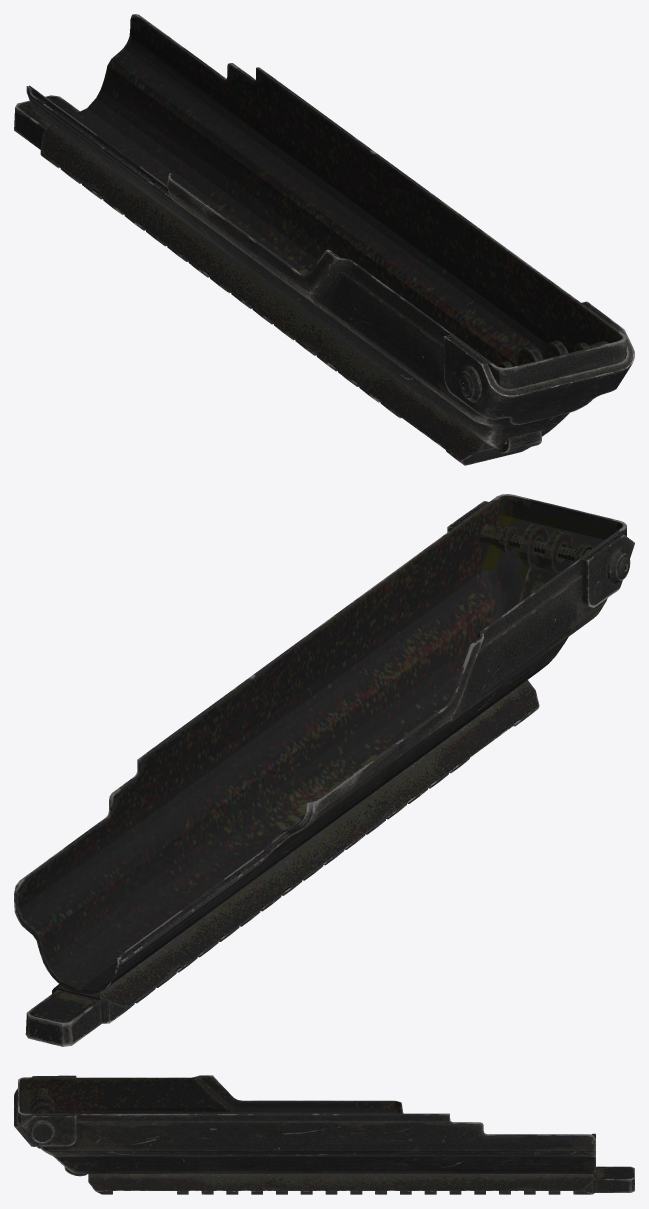
The picture shows the model from 3 angles, top to bottom: view 1: azimuth 30°, elevation 25°; view 2: azimuth 150°, elevation 25°; view 3: azimuth 270°, elevation 25°; orthographic projection. The views are drawn at different scales.
Visible parts, largest first — view 1: TW_5beec91a0db834001961942d_PZ_Import; view 2: TW_5beec91a0db834001961942d_PZ_Import; view 3: TW_5beec91a0db834001961942d_PZ_Import.
Part boxes in pixels (bbox=[...]): TW_5beec91a0db834001961942d_PZ_Import: bbox=[14, 14, 634, 465]; TW_5beec91a0db834001961942d_PZ_Import: bbox=[14, 494, 634, 1046]; TW_5beec91a0db834001961942d_PZ_Import: bbox=[14, 1075, 634, 1194].
Bounding box in the file's own units: 0.0258 × 0.1496 × 0.0241.
1 material, 1 textured.
